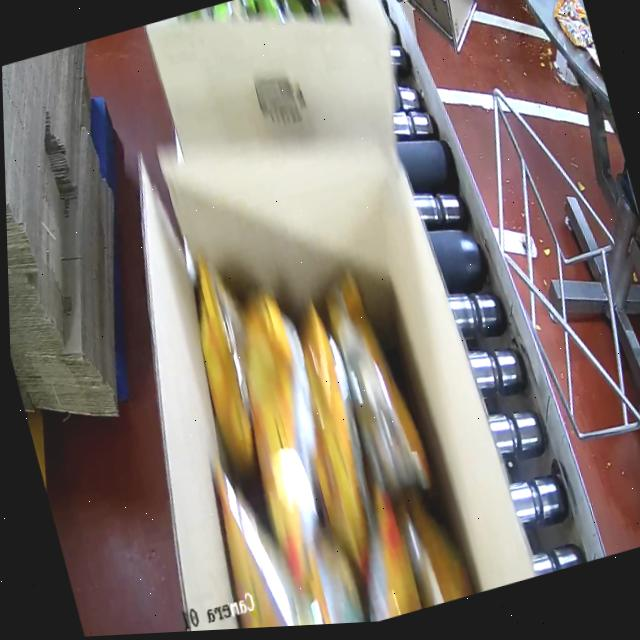FRENCH_CHEESE: (167, 200, 487, 632)
